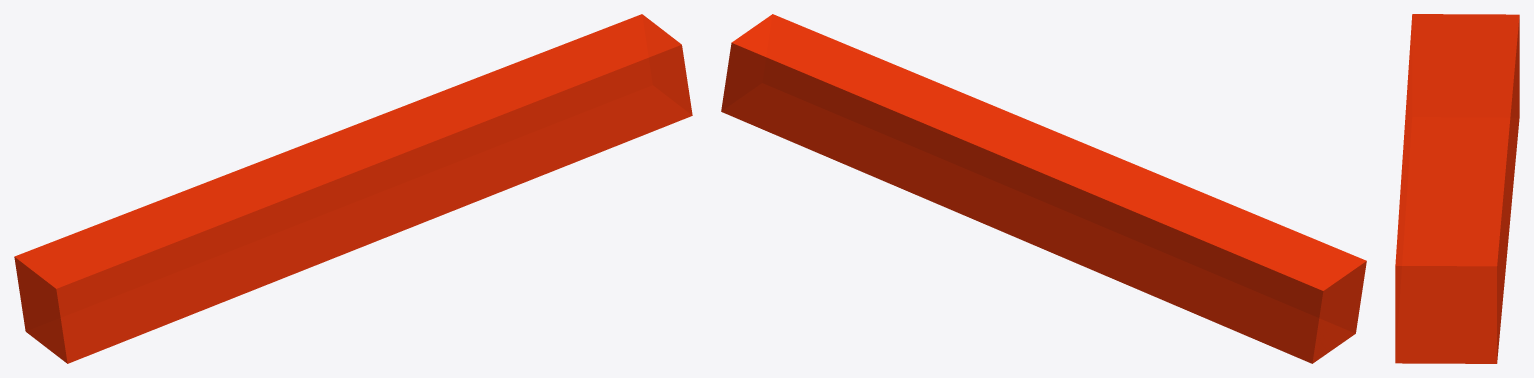
The model's file is Event_420107950_EErechit_29.fbx.
The picture shows the model from 3 angles, left to right: view 1: azimuth 30°, elevation 25°; view 2: azimuth 150°, elevation 25°; view 3: azimuth 270°, elevation 25°; orthographic projection. The views are drawn at different scales.
Visible parts, largest first — view 1: Model; view 2: Model; view 3: Model.
Part boxes in pixels (bbox=[...]): Model: bbox=[14, 14, 692, 363]; Model: bbox=[721, 14, 1366, 363]; Model: bbox=[1395, 14, 1519, 363].
Size of the model in its own units: 0.6423 by 0.1715 by 0.0886.
